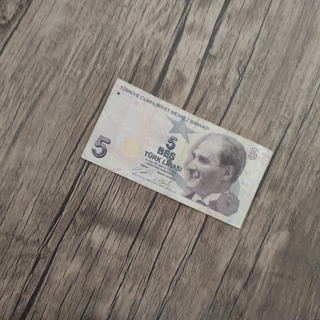5TLFront: (79, 76, 274, 229)
